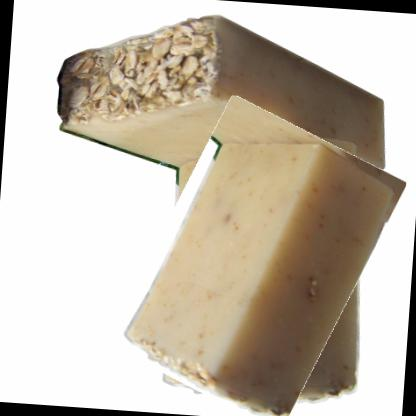soap: (125, 102, 390, 415)
